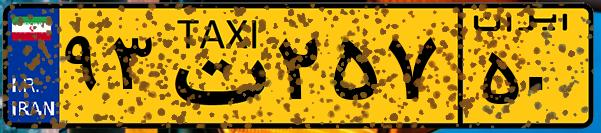0: (525, 38, 570, 115)
2: (270, 28, 330, 110)
3: (110, 28, 158, 98)
5: (330, 28, 385, 110), (475, 38, 525, 113)
7: (385, 28, 445, 110)
9: (57, 26, 110, 100)
ت: (158, 12, 270, 120)
